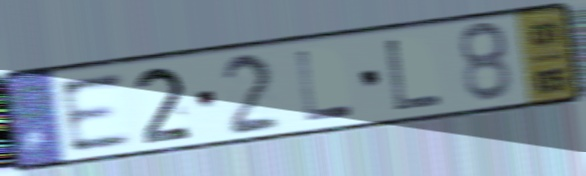2: (220, 49, 283, 138), (133, 64, 194, 147)
8: (455, 20, 515, 108)
E: (55, 69, 136, 156)
L: (292, 47, 357, 125), (382, 36, 447, 114)
